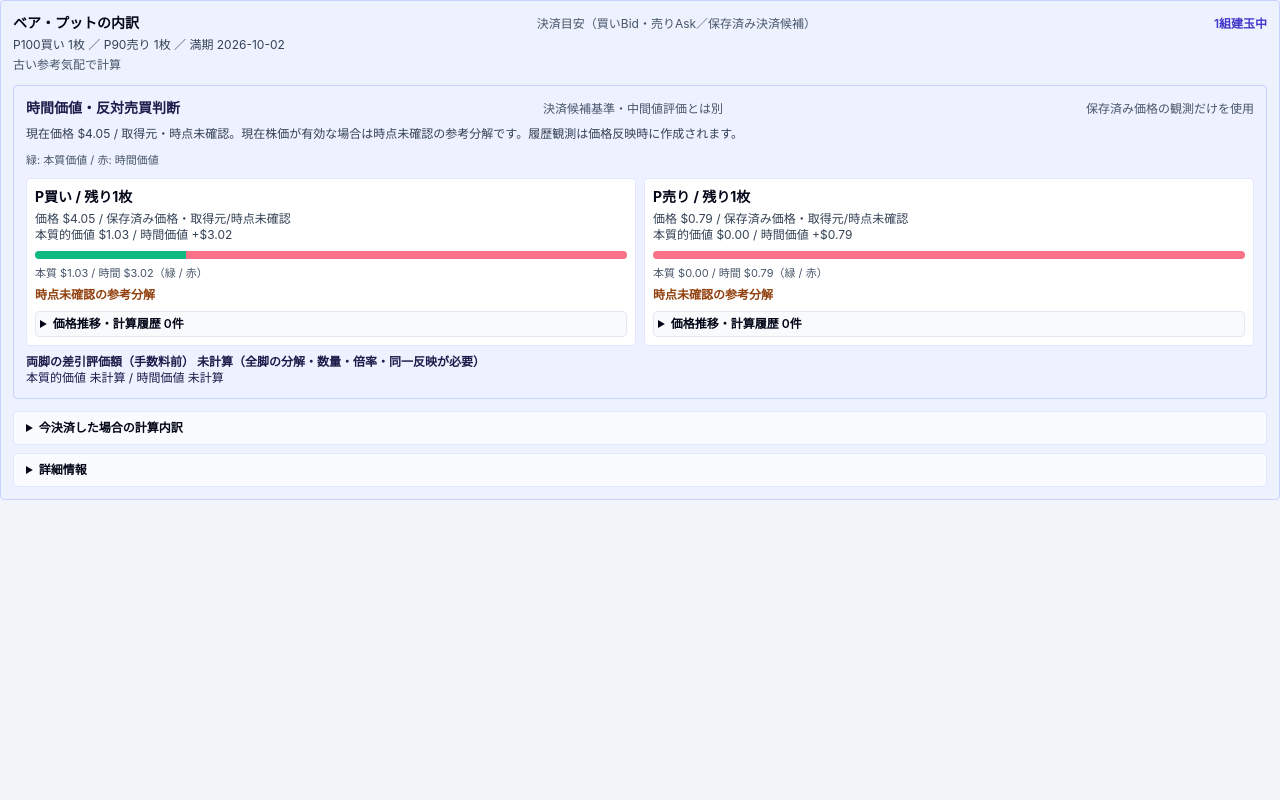
Test: R7 spread copy and hierarchy › reveals one concise calculation instead of three cards
Expected: the heading "ベア・プットの内訳" is shown, [13,13,139,33]
Expected: the text "古い参考気配で計算" is shown, [13,57,121,72]
Click the heading "今決済した場合の計算内訳" at [111, 428], box [39,420,183,435]
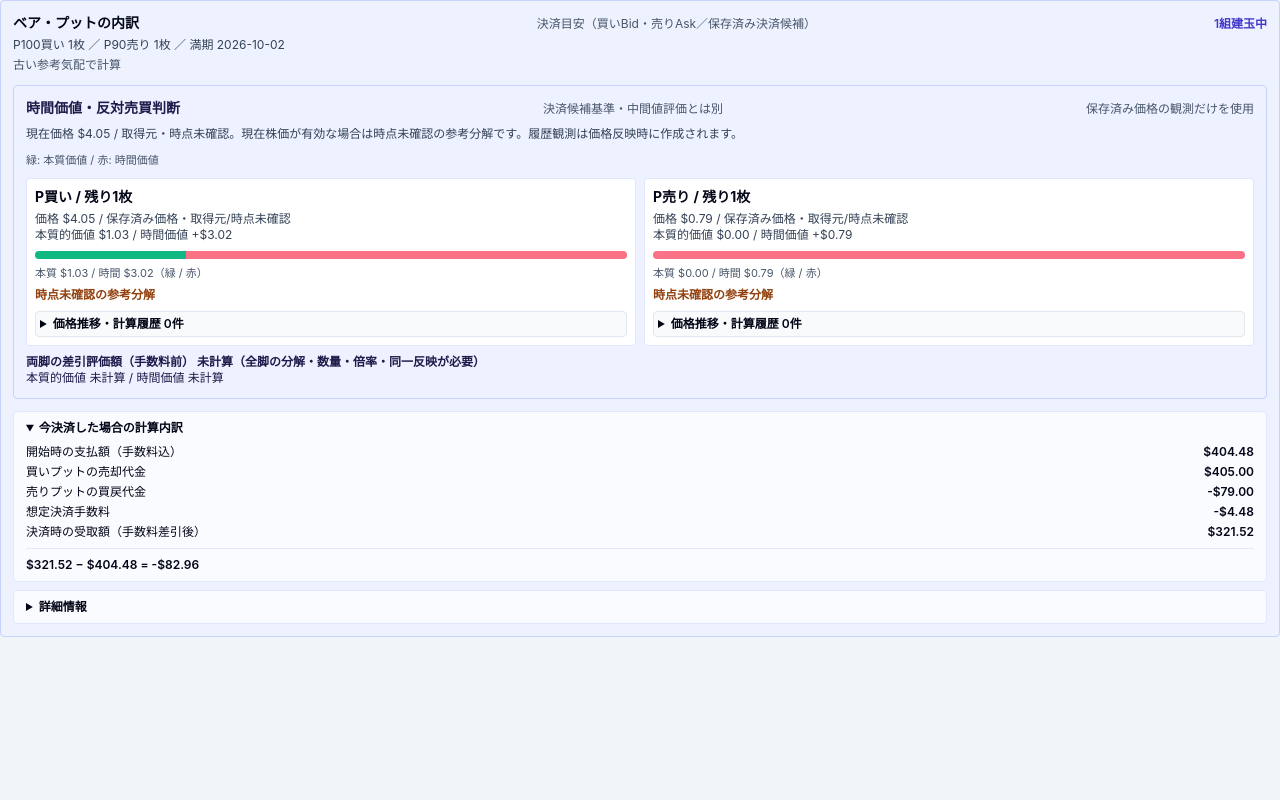
Expected: the text "今決済した場合の計算内訳" shows "買いプットの売却代金", [26,464,146,479]
Expected: the text "今決済した場合の計算内訳" shows "売りプットの買戻代金", [26,484,146,499]
Expected: the text "今決済した場合の計算内訳" shows "$321.52 − $404.48 = -$82.96", [13,411,1267,582]
Click the heading "詳細情報" at [63, 606], box [39,599,87,614]
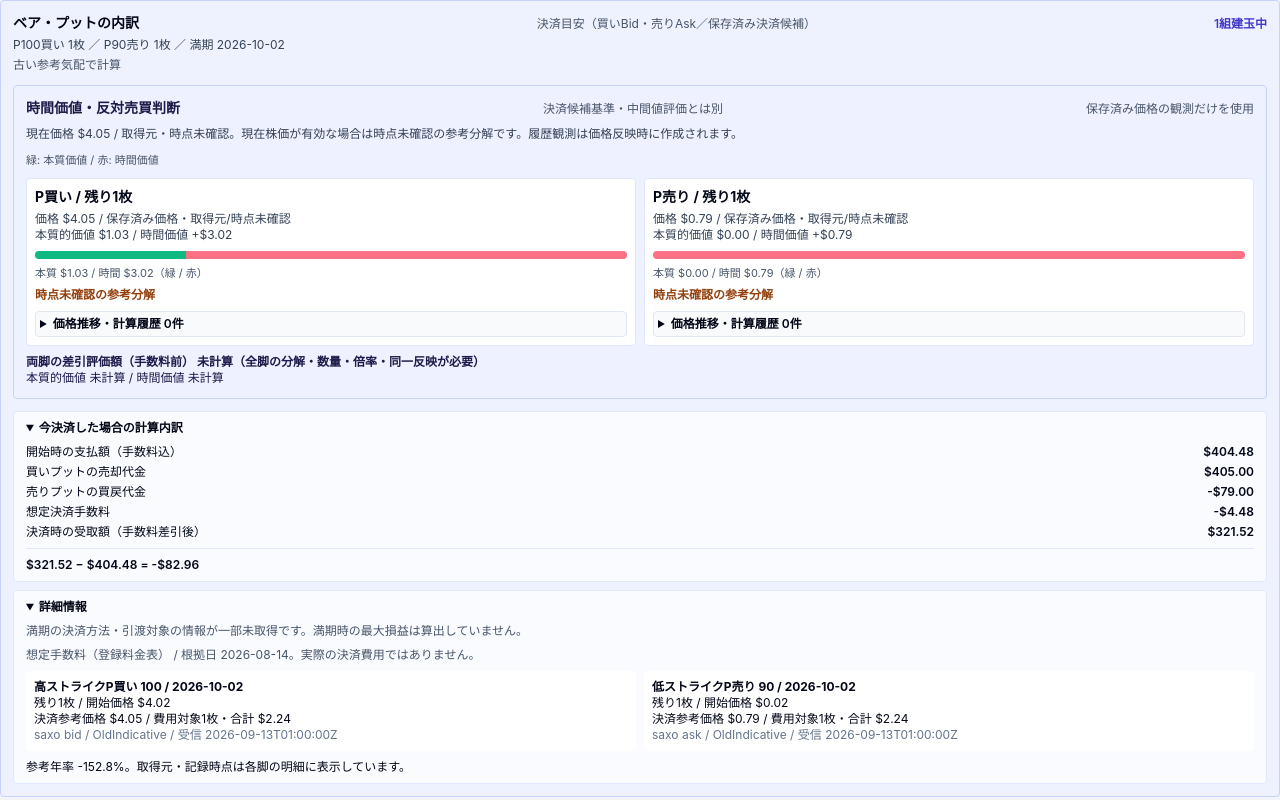
Expected: the text "詳細情報" shows "満期の決済方法・引渡対象の情報が一部未取得です。満期時の最大損益は算出していません。", [26,623,528,638]
